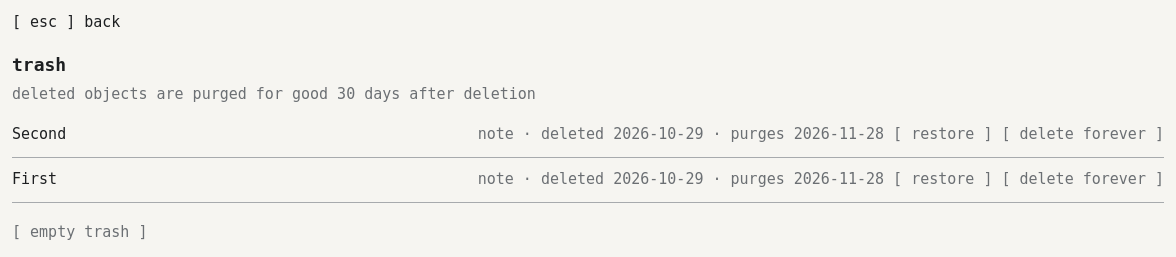
Test: trash › delete forever asks first; no cancels without a request
The width and height of the screenshot is (1176, 257).
Expected: the text "Second" is shown, [12, 125, 66, 143]
Click the button "[ delete forever ]" in the row of "Second" at [1083, 135], box [1001, 113, 1164, 157]
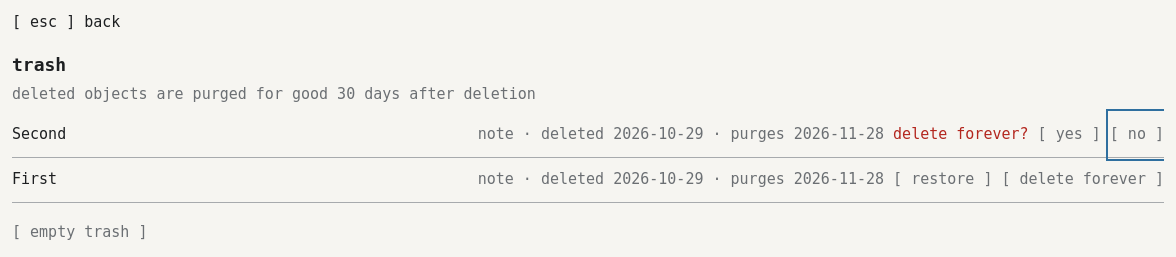
Expected: the text "delete forever?" is shown, [893, 124, 1029, 145]
Click the button "[ no ]" at [1137, 135], box [1110, 113, 1164, 157]
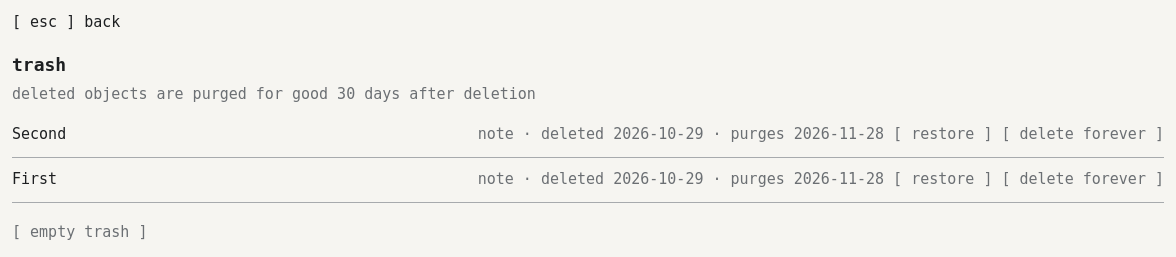
Click the button "[ delete forever ]" in the row of "Second" at [1083, 135], box [1001, 113, 1164, 157]
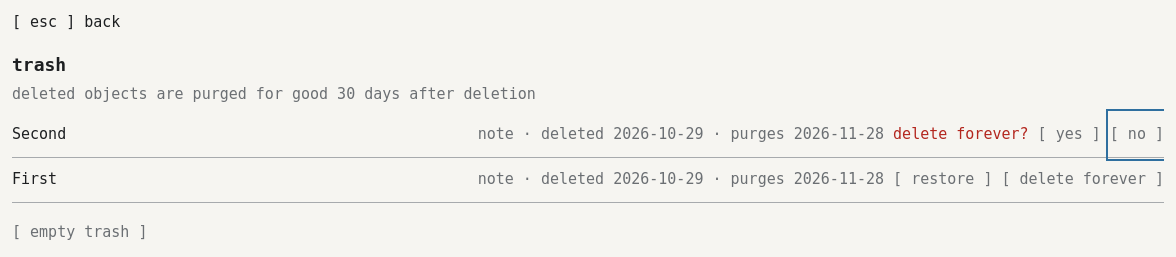
Click the button "[ yes ]" at [1069, 135], box [1038, 113, 1101, 157]
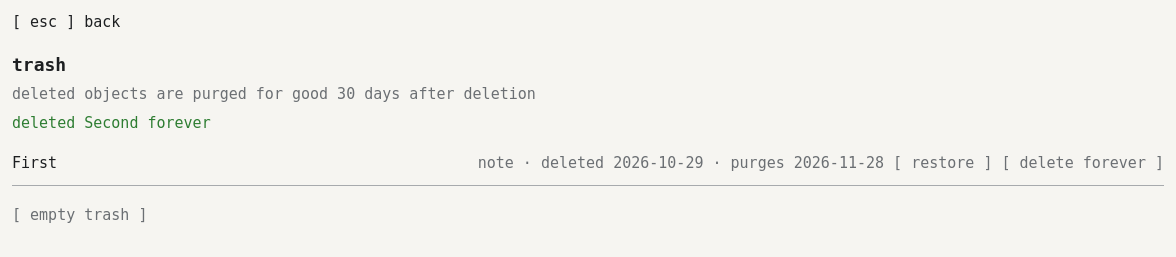
Expected: the text "deleted Second forever" is shown, [12, 114, 211, 132]
